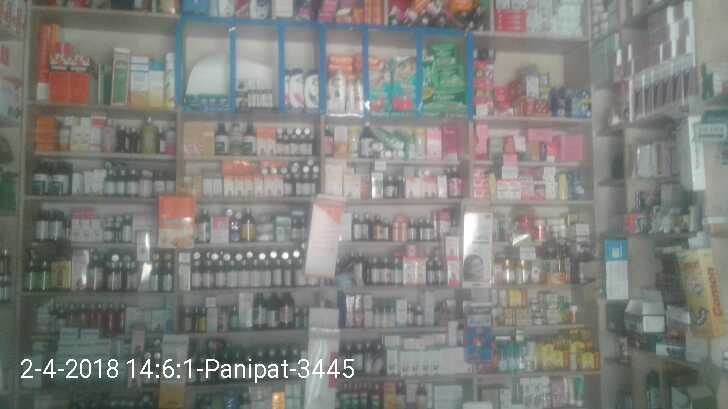vicks: (182, 92, 229, 109)
